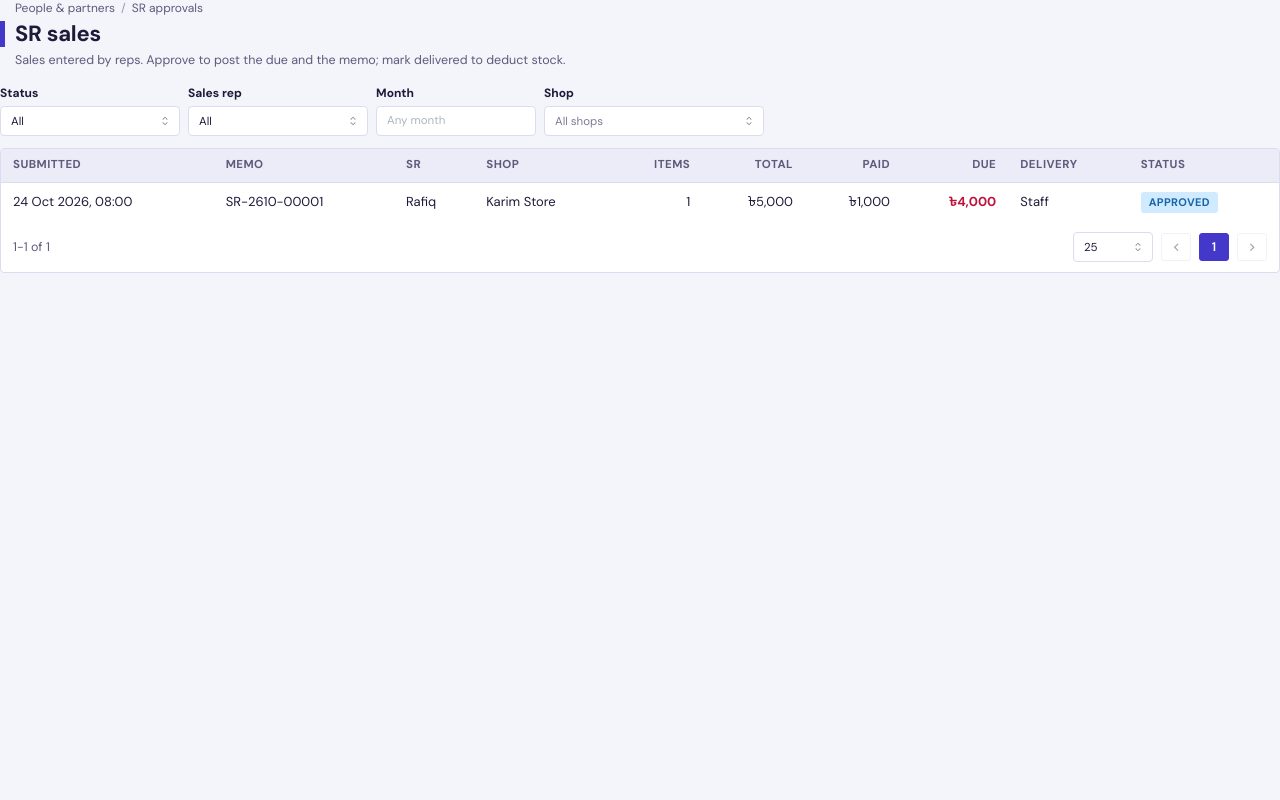
Test: SalesPage › links to the memo once approved
The width and height of the screenshot is (1280, 800).
Click the text "SR-2610-00001" at (304, 202), box [214,182,394,222]
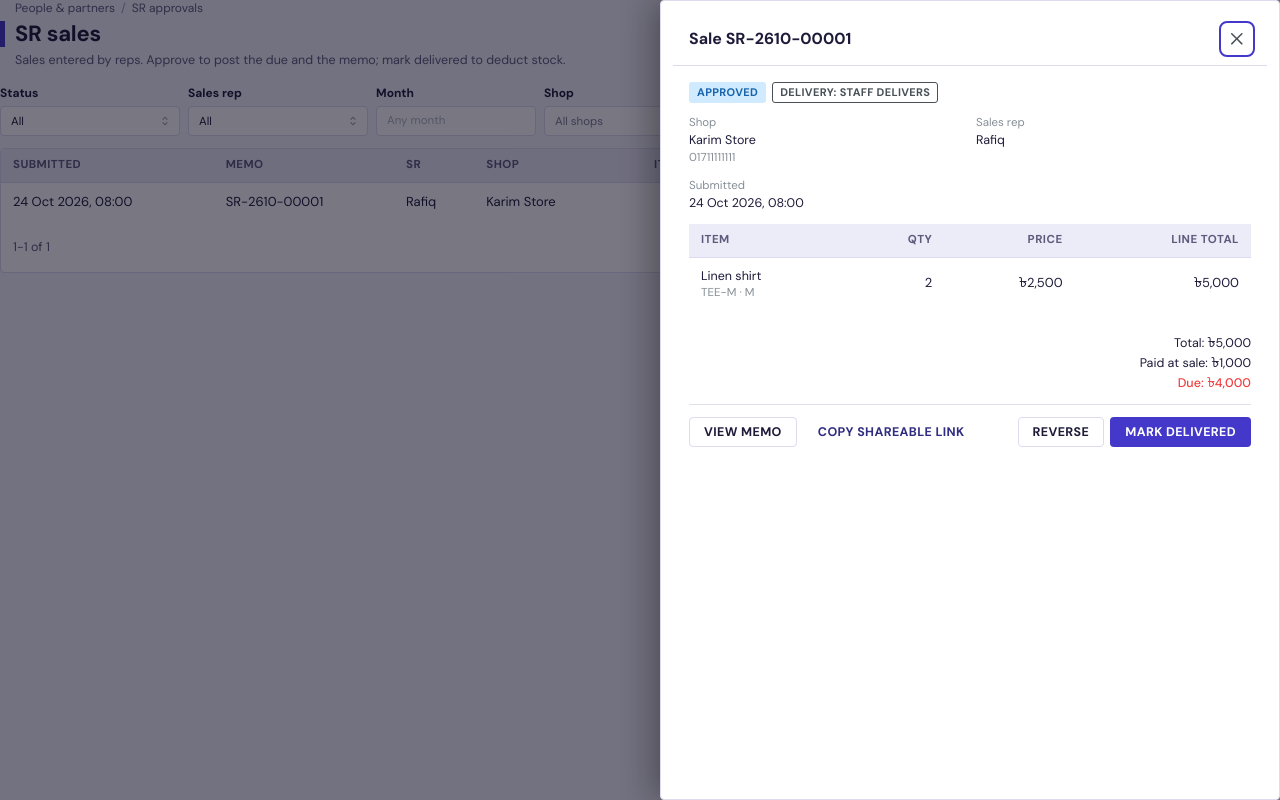
Now the button "Mark delivered" is shown, box [1110,417,1251,447]
Now the button "Reverse" is shown, box [1018,417,1104,447]
